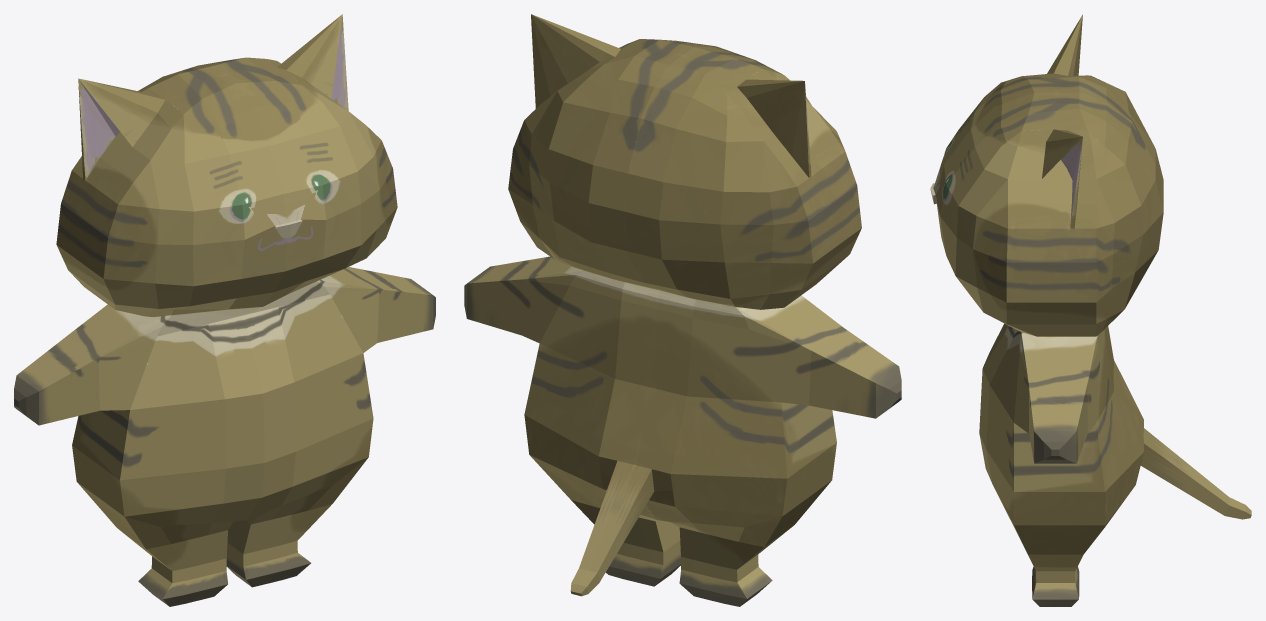
File: cat_hana.glb
The picture shows the model from 3 angles, left to right: view 1: azimuth 30°, elevation 25°; view 2: azimuth 150°, elevation 25°; view 3: azimuth 270°, elevation 25°; orthographic projection. The views are drawn at different scales.
Parts seen in each view (by area): view 1: Cube; view 2: Cube; view 3: Cube.
Part boxes in pixels (x1,y1,x2,y2): Cube: (14,14,435,606); Cube: (464,14,901,606); Cube: (930,14,1251,606).
Bounding box in the file's own units: 0.6927 × 0.8396 × 0.4864.
1 material, 1 textured.
